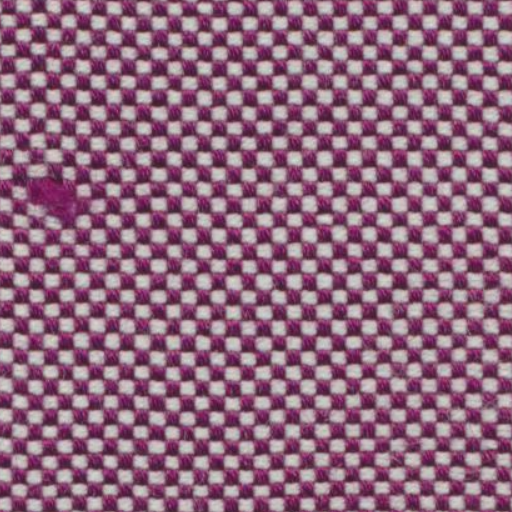MianQiu: (24, 156, 102, 238)
